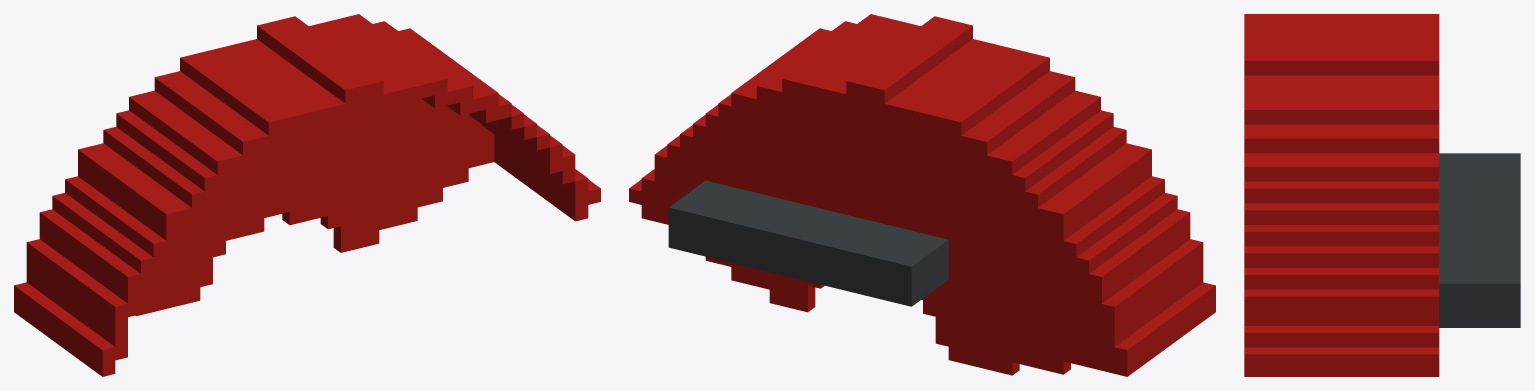
File: small_tractor_fender.glb
3 views of the same model, side by side, from view 1: azimuth 30°, elevation 25°; view 2: azimuth 150°, elevation 25°; view 3: azimuth 270°, elevation 25° (orthographic). The views are drawn at different scales.
Visible parts, largest first — view 1: body:compound; view 2: body:compound; view 3: body:compound.
Part boxes in pixels (box(x1,y1,x2,y2)): body:compound: box(14, 14, 600, 376); body:compound: box(629, 14, 1215, 376); body:compound: box(1244, 14, 1520, 376).
Bounding box in the file's own units: 1.22 × 0.5938 × 0.5312.
